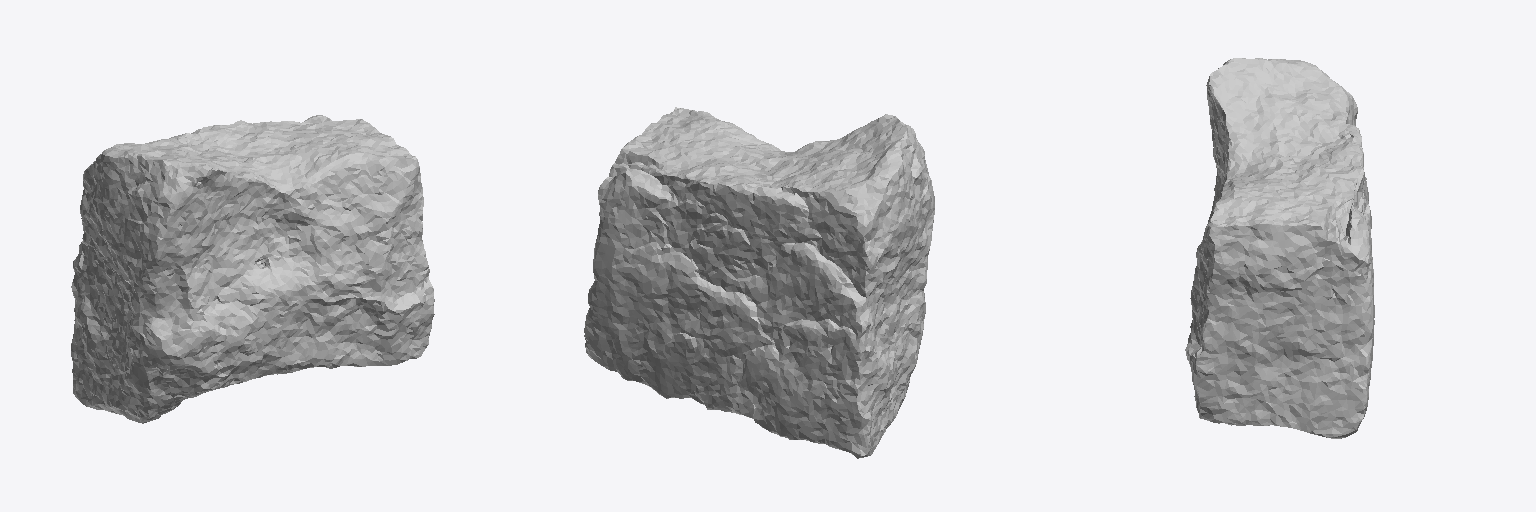
File: rock_sandstone.obj
3 renders of one model, left to right at view 1: azimuth 30°, elevation 25°; view 2: azimuth 150°, elevation 25°; view 3: azimuth 270°, elevation 25°, orthographic.
Bounding box in the file's own units: 17.6 × 16.26 × 9.9.